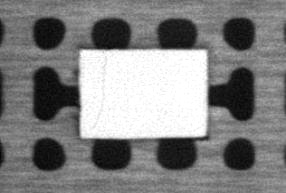DIE_CRACK: (93, 53, 110, 132)
